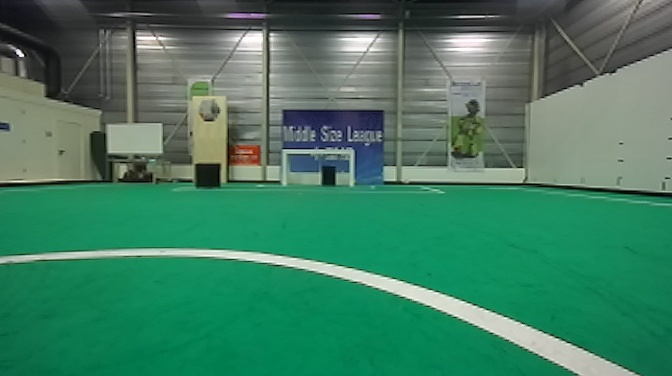goalpost: (346, 147, 355, 187), (280, 147, 287, 190)
